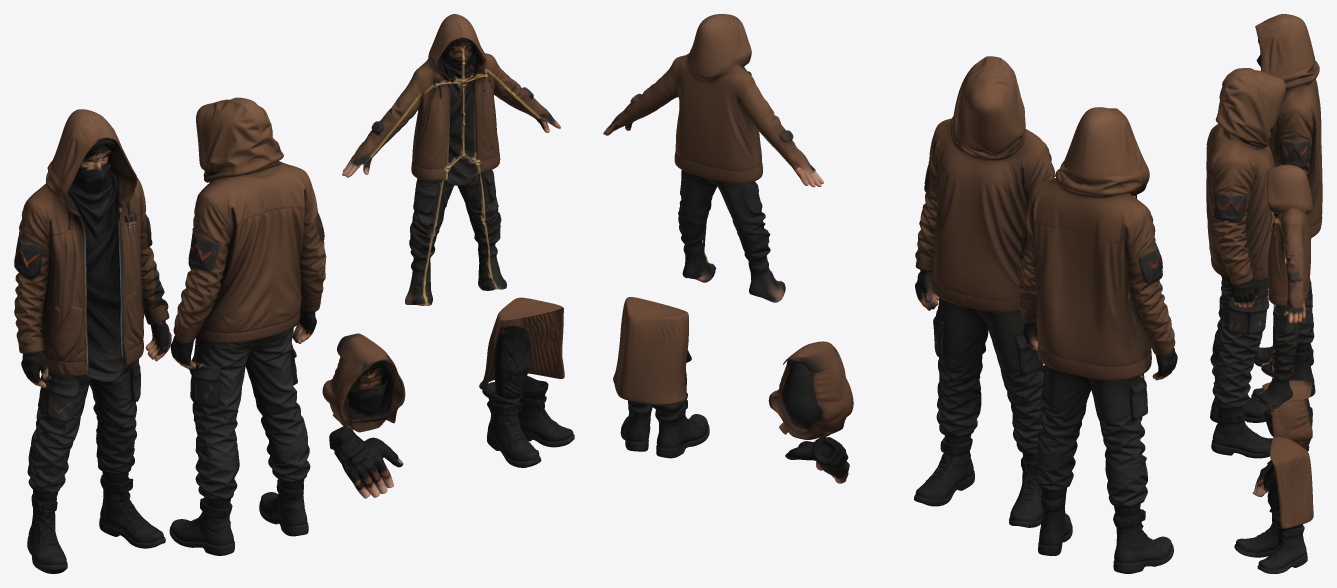
The model's file is selected.glb.
3 views of the same model, side by side, from view 1: azimuth 30°, elevation 25°; view 2: azimuth 150°, elevation 25°; view 3: azimuth 270°, elevation 25° (orthographic). The views are drawn at different scales.
Parts seen in each view (by area): view 1: material; view 2: material; view 3: material.
Part boxes in pixels (box(x1,y1,x2,y2)): material: box(14, 14, 574, 573); material: box(603, 14, 1177, 573); material: box(1206, 14, 1322, 573).
Size of the model in its own units: 0.9611 by 0.745 by 0.2115.
Materials: 1 (1 with a texture image).
